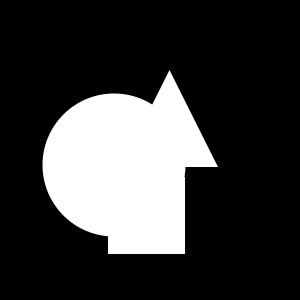circle: (108, 177, 185, 254)
rectangle: (42, 94, 186, 236)
triangle: (121, 70, 218, 167)
